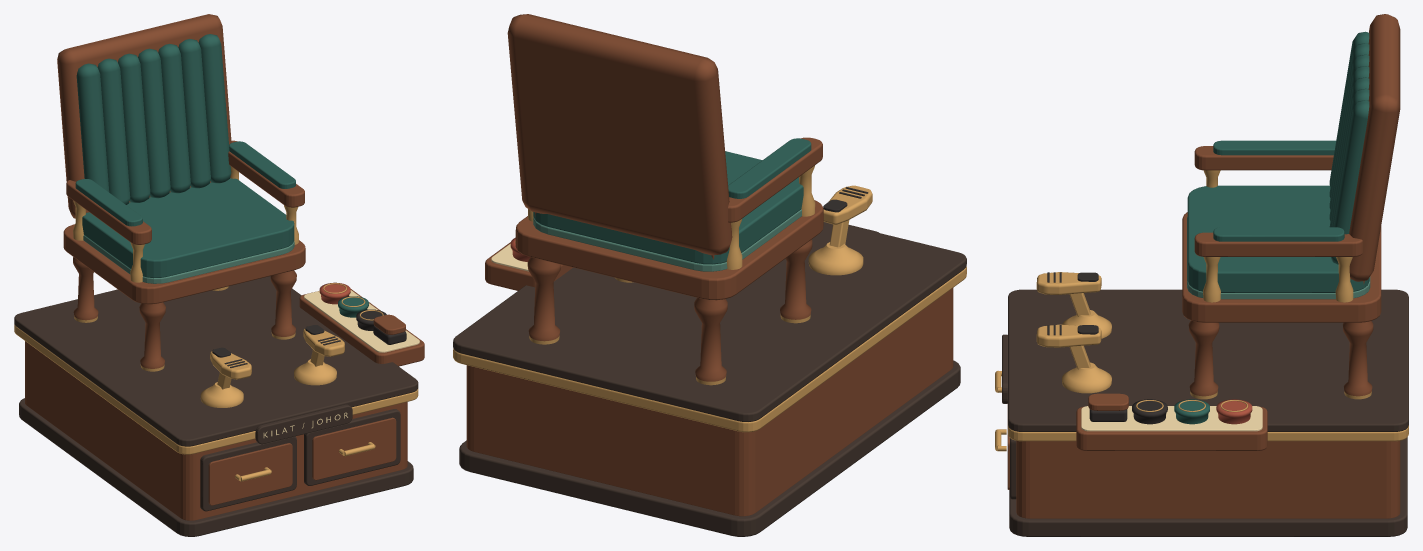
3 views of the same model, side by side, from view 1: azimuth 30°, elevation 25°; view 2: azimuth 150°, elevation 25°; view 3: azimuth 270°, elevation 25° (orthographic). The views are drawn at different scales.
Parts seen in each view (by area): view 1: Kilat Shoe Saloon - Structure, Kilat Shoe Saloon - Upholstery, Kilat Shoe Saloon - Graphics, Kilat Shoe Saloon - Polishing kit, Kilat Shoe Saloon - Footrests; view 2: Kilat Shoe Saloon - Structure, Kilat Shoe Saloon - Upholstery, Kilat Shoe Saloon - Footrests; view 3: Kilat Shoe Saloon - Structure, Kilat Shoe Saloon - Upholstery, Kilat Shoe Saloon - Polishing kit, Kilat Shoe Saloon - Footrests, Kilat Shoe Saloon - Graphics.
Boxes of the visible parts, <box> form: Kilat Shoe Saloon - Structure: <box>14,140,424,536</box>; Kilat Shoe Saloon - Upholstery: <box>57,14,231,218</box>; Kilat Shoe Saloon - Graphics: <box>200,283,400,511</box>; Kilat Shoe Saloon - Polishing kit: <box>319,282,406,344</box>; Kilat Shoe Saloon - Footrests: <box>210,325,344,379</box>; Kilat Shoe Saloon - Structure: <box>453,137,966,536</box>; Kilat Shoe Saloon - Upholstery: <box>507,14,732,255</box>; Kilat Shoe Saloon - Footrests: <box>823,185,872,224</box>; Kilat Shoe Saloon - Structure: <box>995,140,1408,536</box>; Kilat Shoe Saloon - Upholstery: <box>1329,14,1400,281</box>; Kilat Shoe Saloon - Polishing kit: <box>1088,393,1252,424</box>; Kilat Shoe Saloon - Footrests: <box>1036,272,1101,347</box>; Kilat Shoe Saloon - Graphics: <box>1002,334,1248,499</box>.
Size of the model in its own units: 1.51 by 1.89 by 1.7.
